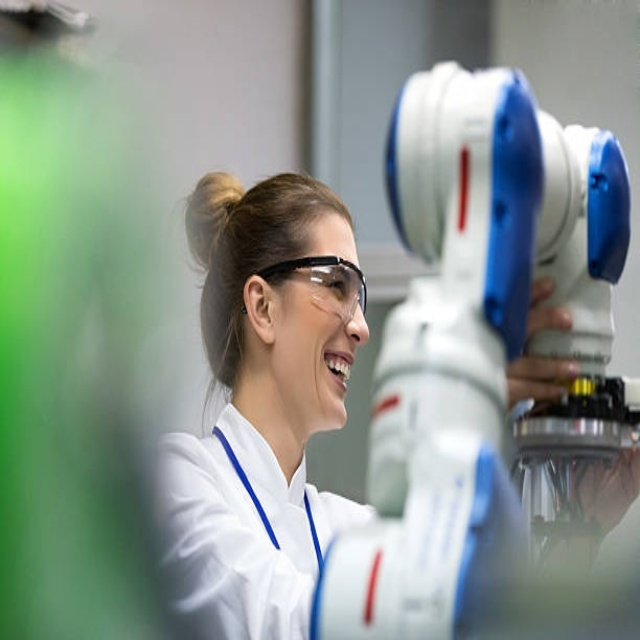Gafas: (242, 256, 369, 324)
Sin_guantes: (503, 275, 580, 408)
Sin_mascara: (306, 344, 361, 428)
